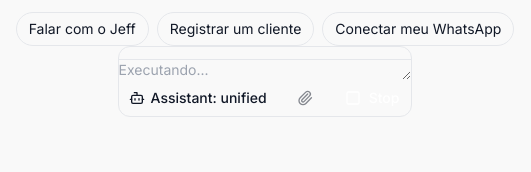
Test: ChatInterface — saas-empresario-br-task-ux-3 unit-2 / REQ-004 › fills the composer with the CRM prompt when send is blocked (loading)
Click the button "Registrar um cliente".
click(236, 29)  # box x1=157 y1=12 x2=314 y2=46
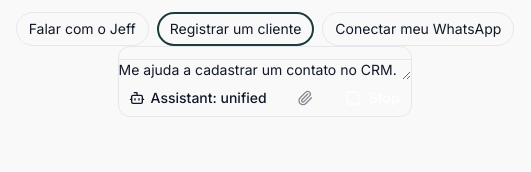
Now the text box holds "Me ajuda a cadastrar um contato no CRM.", box x1=118 y1=60 x2=411 y2=80
